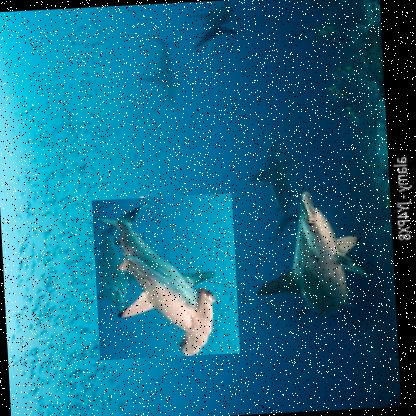hammerhead_Shark: (92, 192, 240, 360), (247, 178, 376, 336)
